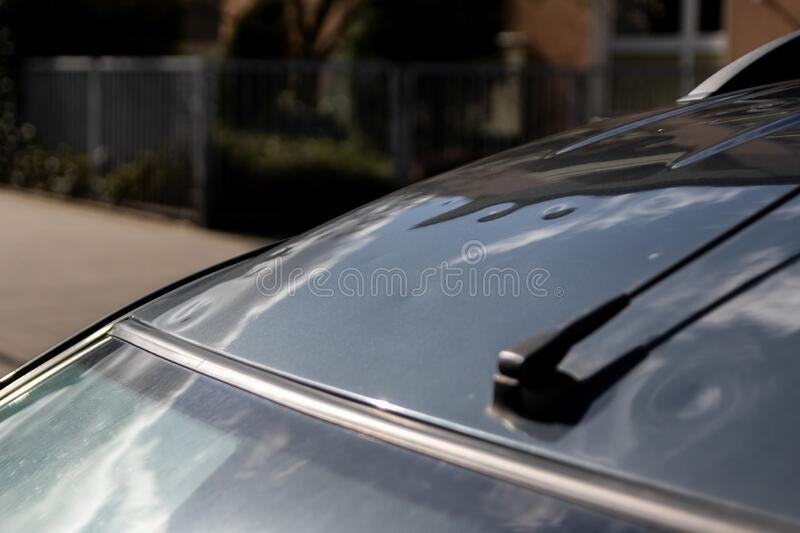roof-dent: (183, 158, 624, 510), (614, 115, 772, 458)
